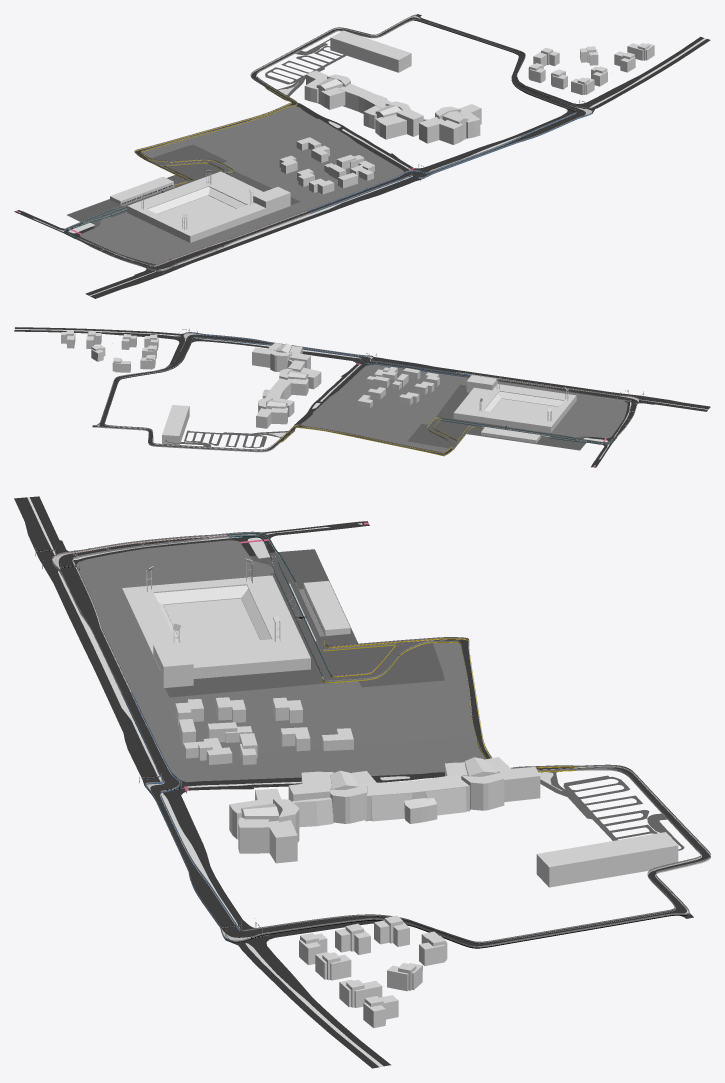
The model's file is Stadion.fbx.
The picture shows the model from 3 angles, top to bottom: view 1: azimuth 30°, elevation 25°; view 2: azimuth 150°, elevation 25°; view 3: azimuth 270°, elevation 25°; orthographic projection. The views are drawn at different scales.
Parts seen in each view (by area): view 1: Plane.001, Cube, Wall.001, Wall.002, Cube.018, Cube.007, Cube.057, Cube.011, Cube.001, Cube.020, Cube.022, Cube.002; view 2: Plane.001, Cube, Wall.002, Wall.001, Cube.018, Cube.057, Cube.007, Cube.001, Cube.017, Cube.023, Cube.005, Wall (+4 smaller); view 3: Plane.001, Cube, Cube.018, Wall.001, Wall.002, Cube.007, Cube.057, Cube.001, Cube.006, Cube.008, Cube.005, Cube.023 (+10 smaller).
Part boxes in pixels (x1,y1,x2,y2): Plane.001: (14,14,710,298); Cube: (127,171,283,242); Wall.001: (64,14,592,271); Wall.002: (68,19,576,266); Cube.018: (330,30,411,72); Cube.007: (338,83,391,113); Cube.057: (110,176,173,204); Cube.011: (375,114,406,139); Cube.001: (253,187,290,208); Cube.020: (439,120,463,144); Cube.022: (419,117,444,143); Cube.002: (321,87,345,109); Plane.001: (14,327,710,467); Cube: (453,384,576,432); Wall.002: (104,337,631,453); Wall.001: (96,332,638,455); Cube.018: (162,405,189,444); Cube.057: (481,427,540,443); Cube.007: (265,378,294,400); Cube.001: (466,375,497,392); Cube.017: (270,349,291,371); Cube.023: (252,347,274,367); Cube.005: (256,408,271,428); Wall: (433,419,576,440); Plane.001: (14,496,709,1068); Cube: (122,575,310,681); Cube.018: (536,832,678,887); Wall.001: (52,531,710,948); Wall.002: (72,534,701,943); Cube.007: (359,774,470,821); Cube.057: (303,581,350,635); Cube.001: (153,642,193,687); Cube.006: (461,772,504,810); Cube.008: (329,785,367,823); Cube.005: (499,767,540,802); Cube.023: (268,820,297,863).
Size of the model in its own units: 184209 by 6806 by 94829.
